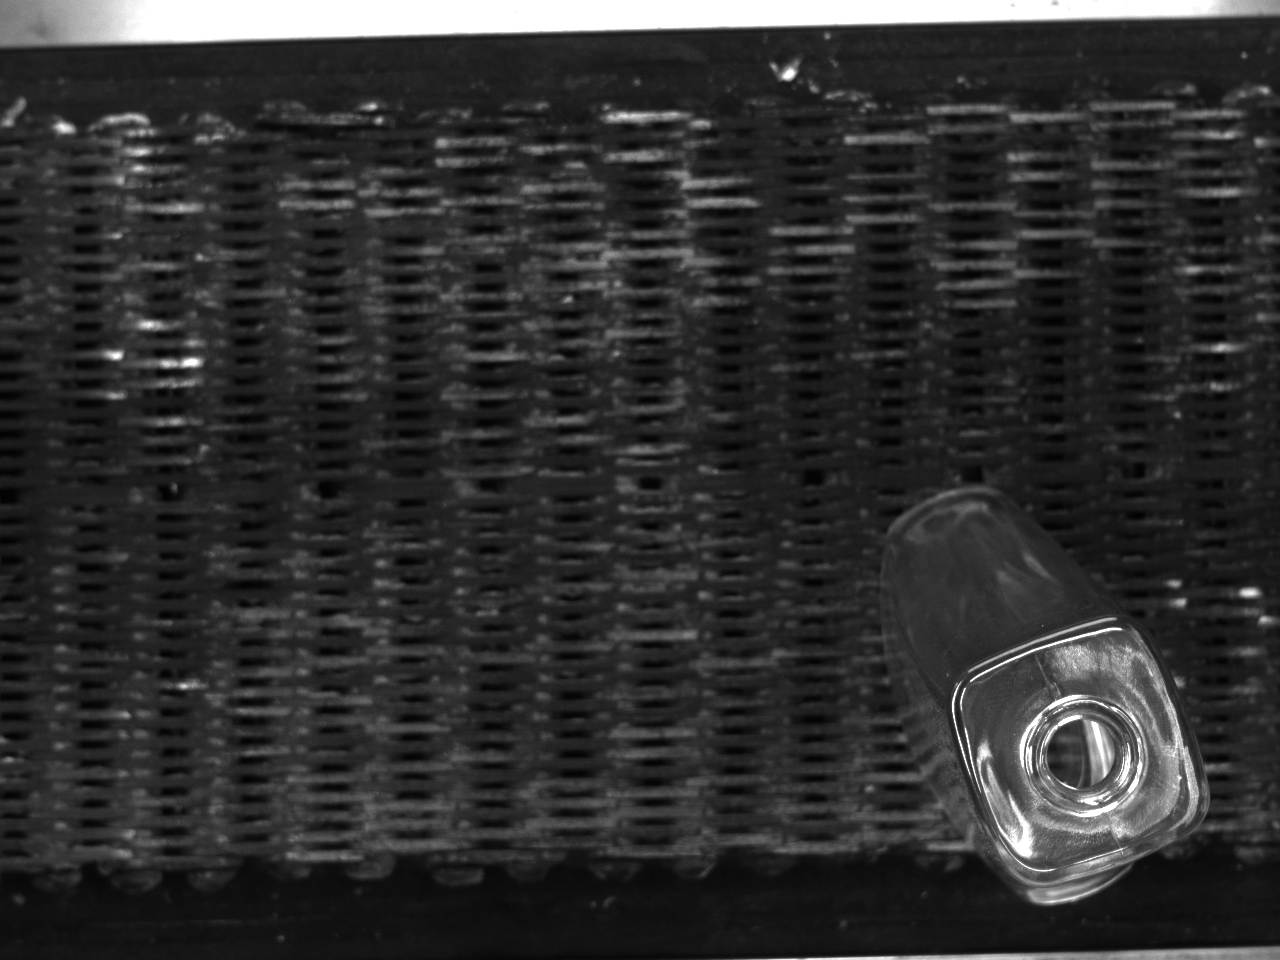bottleneck: (1024, 695, 1149, 814)
